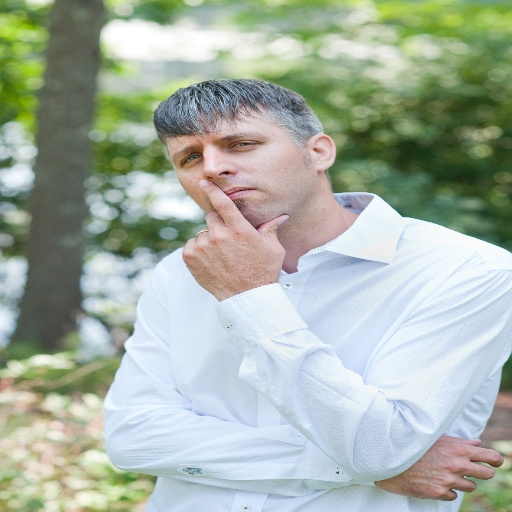hand: (176, 190, 303, 297), (372, 436, 503, 502)
